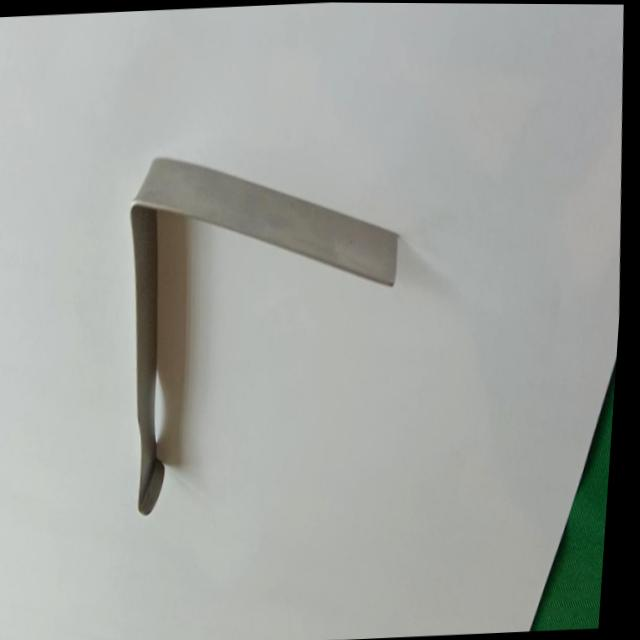AustinRetractor: (107, 132, 431, 522)
